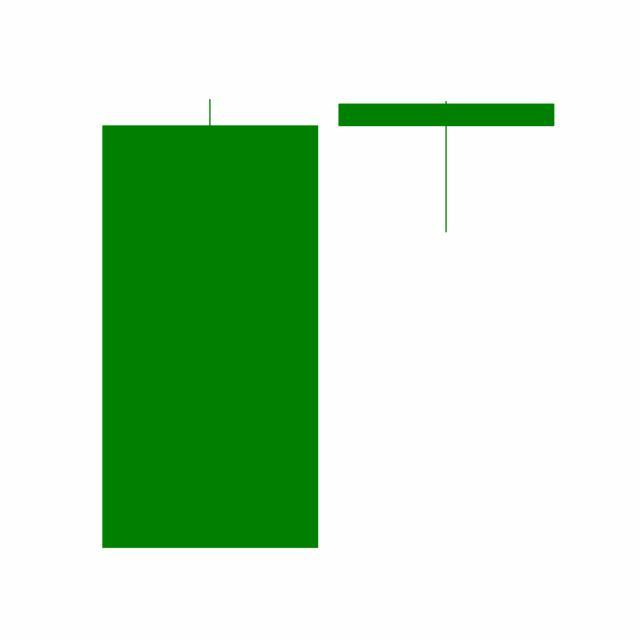Hanging Man: (328, 100, 566, 235)
